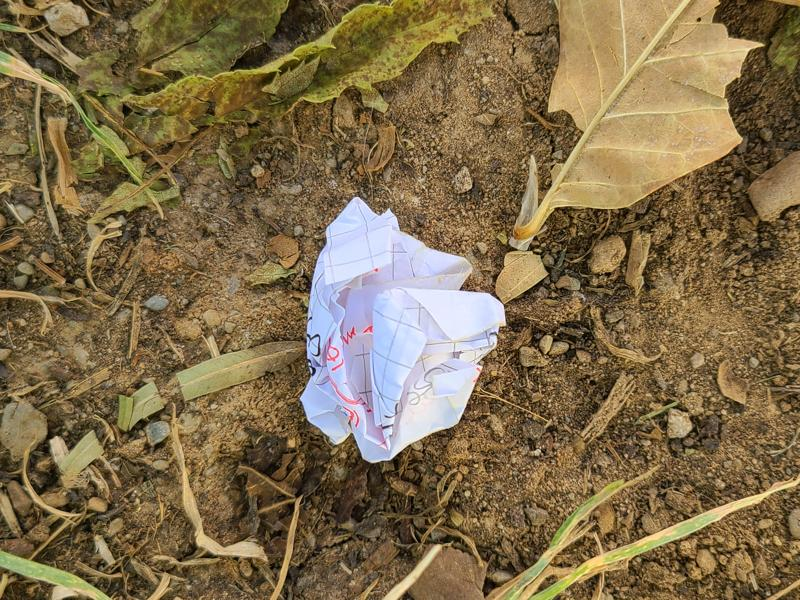papel: (302, 198, 501, 464)
